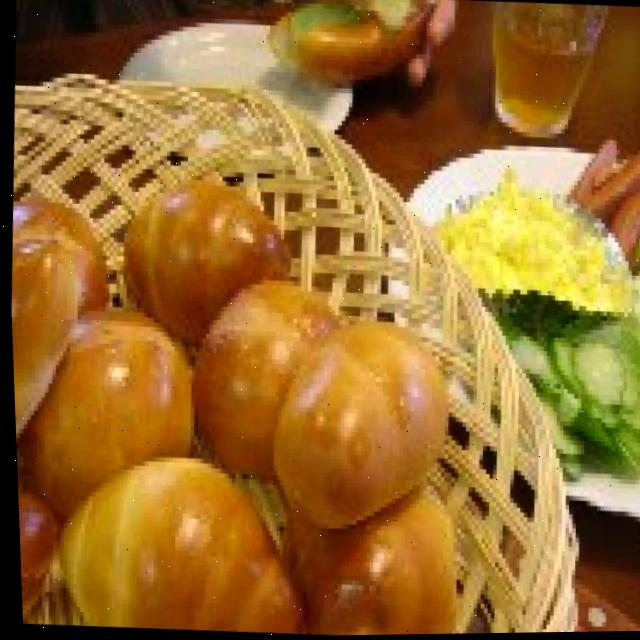面包点心: (4, 149, 478, 640)
